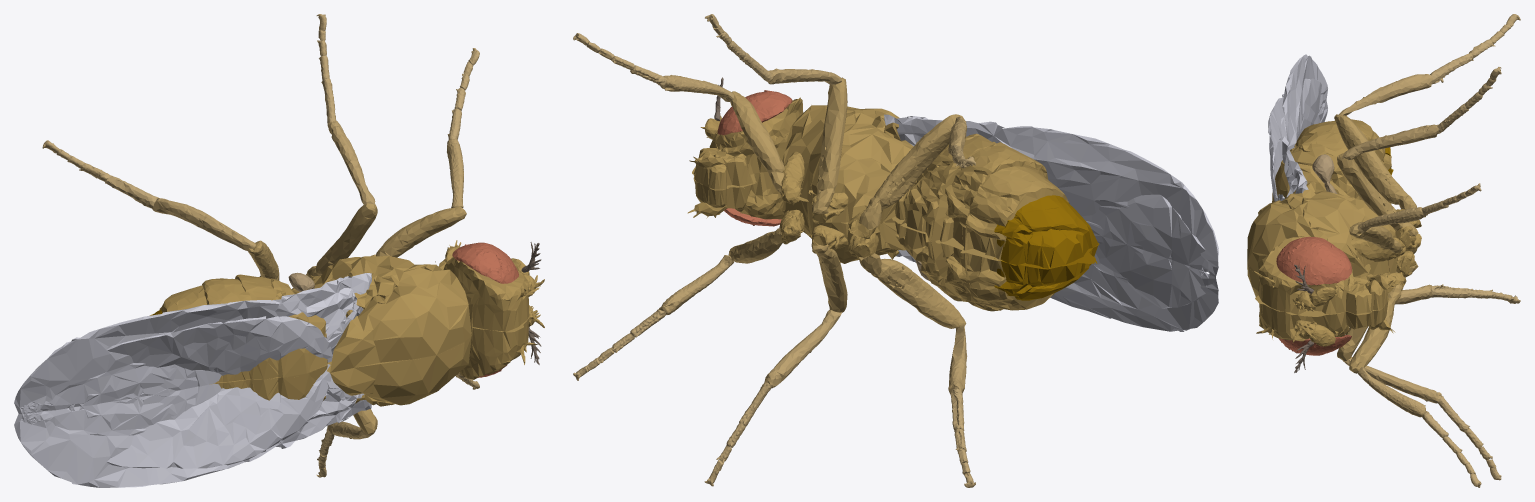
File: fly.glb
3 renders of one model, left to right at view 1: azimuth 30°, elevation 25°; view 2: azimuth 150°, elevation 25°; view 3: azimuth 270°, elevation 25°, orthographic. The views are drawn at different scales.
Parts seen in each view (by area): view 1: l_wing, r_wing, c_thorax, c_head, c_abdomen12, lf_trochanterfemur, c_abdomen3, l_eye, lm_trochanterfemur, lh_tibia, c_abdomen4, lm_tibia (+4 smaller); view 2: l_wing, r_wing, c_thorax, c_abdomen6, c_abdomen5, c_abdomen3, c_abdomen4, c_head, lh_trochanterfemur, rh_trochanterfemur, lm_trochanterfemur, c_rostrum (+13 smaller); view 3: c_thorax, c_head, l_wing, l_eye, lh_trochanterfemur, r_wing, c_abdomen12, c_rostrum, lm_trochanterfemur, lh_tibia, rf_trochanterfemur, lm_tibia (+23 smaller).
Part boxes in pixels (<box>): l_wing: <box>14,273,371,468</box>; r_wing: <box>14,316,371,487</box>; c_thorax: <box>291,256,471,406</box>; c_head: <box>443,257,540,379</box>; c_abdomen12: <box>271,278,327,400</box>; lf_trochanterfemur: <box>371,206,466,257</box>; c_abdomen3: <box>235,274,285,400</box>; l_eye: <box>452,242,518,283</box>; lm_trochanterfemur: <box>306,203,377,277</box>; lh_tibia: <box>152,198,255,250</box>; c_abdomen4: <box>202,278,251,388</box>; lm_tibia: <box>328,120,375,205</box>; l_wing: <box>884,114,1218,308</box>; r_wing: <box>896,194,1218,331</box>; c_thorax: <box>782,105,913,263</box>; c_abdomen6: <box>994,195,1099,300</box>; c_abdomen5: <box>960,166,1069,310</box>; c_abdomen3: <box>900,133,996,301</box>; c_abdomen4: <box>935,142,1048,311</box>; c_head: <box>706,97,803,219</box>; lh_trochanterfemur: <box>859,114,966,230</box>; rh_trochanterfemur: <box>859,253,966,328</box>; lm_trochanterfemur: <box>812,77,847,213</box>; c_rostrum: <box>687,148,755,218</box>; c_thorax: <box>1247,181,1399,296</box>; c_head: <box>1254,236,1354,341</box>; l_wing: <box>1277,54,1327,200</box>; l_eye: <box>1276,236,1351,285</box>; lh_trochanterfemur: <box>1334,114,1416,209</box>; r_wing: <box>1268,78,1327,201</box>; c_abdomen12: <box>1272,143,1359,202</box>; c_rostrum: <box>1346,272,1395,333</box>; lm_trochanterfemur: <box>1337,153,1418,236</box>; lh_tibia: <box>1339,74,1433,115</box>; rf_trochanterfemur: <box>1349,284,1402,373</box>; lm_tibia: <box>1342,124,1440,159</box>.
Size of the model in its own units: 3.79 by 3.06 by 1.84.
